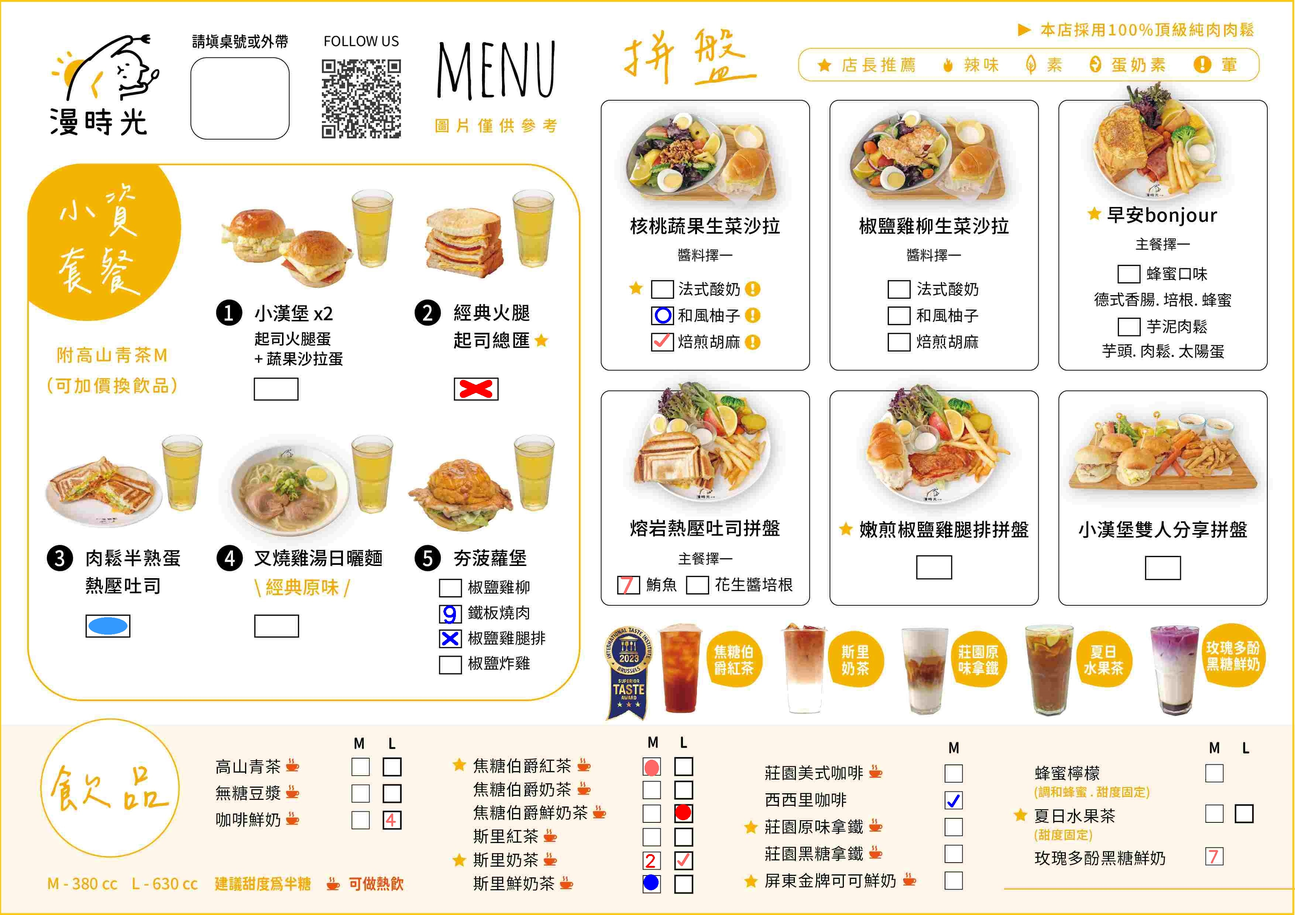marked_circle: (617, 576, 639, 594), (384, 756, 401, 774)
marked_hollow: (675, 851, 692, 869), (675, 804, 692, 821)
marked_number_1: (254, 616, 297, 635)
marked_number_2: (675, 759, 692, 776)
marked_number_3: (1205, 847, 1222, 865), (351, 785, 368, 802)
marked_number_6: (945, 818, 962, 835)
marked_number_9: (1118, 317, 1140, 334)
marked_tick: (651, 331, 673, 349)
marked_x: (889, 306, 911, 324), (439, 630, 461, 648), (351, 759, 368, 777), (643, 829, 660, 846)
